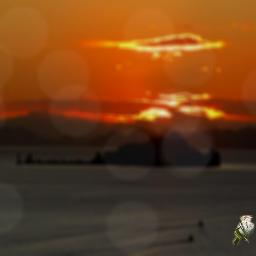Sparrow: (232, 215, 255, 245)
